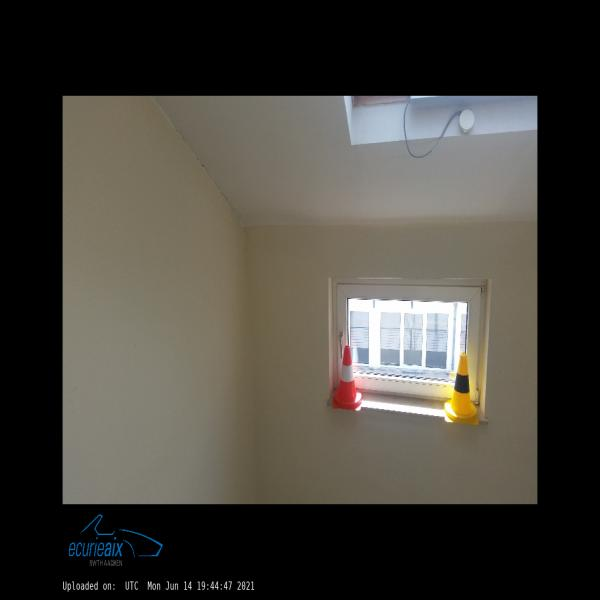orange_cone: (332, 346, 363, 410)
yellow_cone: (443, 353, 479, 426)
